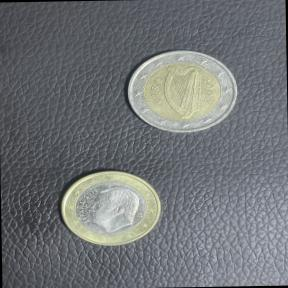1 Euro-B: (54, 164, 168, 252)
2 Euro-B: (120, 46, 243, 137)
